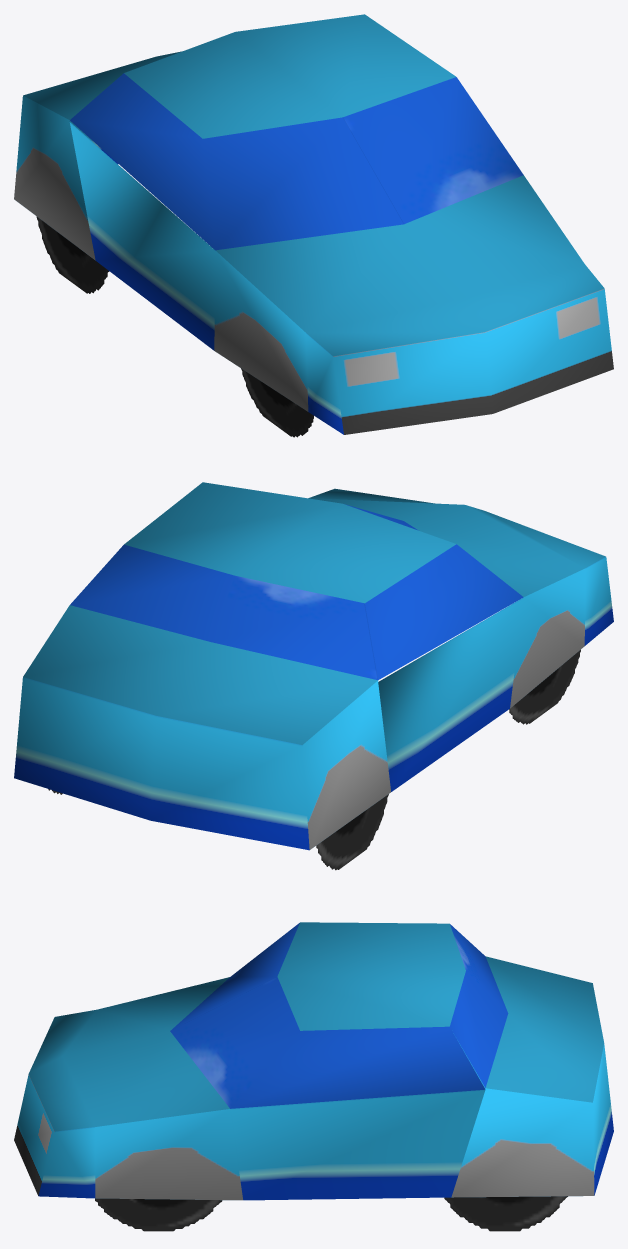
File: ORG_CAR_BLUE.obj
3 views of the same model, one above another, from view 1: azimuth 30°, elevation 25°; view 2: azimuth 150°, elevation 25°; view 3: azimuth 270°, elevation 25° (orthographic). The views are drawn at different scales.
Parts seen in each view (by area): view 1: default; view 2: default; view 3: default.
Boxes of the visible parts, <box> form: default: <box>14,14,613,437</box>; default: <box>14,482,613,870</box>; default: <box>14,922,613,1231</box>.
Size of the model in its own units: 12 by 8.69 by 23.06.
1 material, 1 textured.
